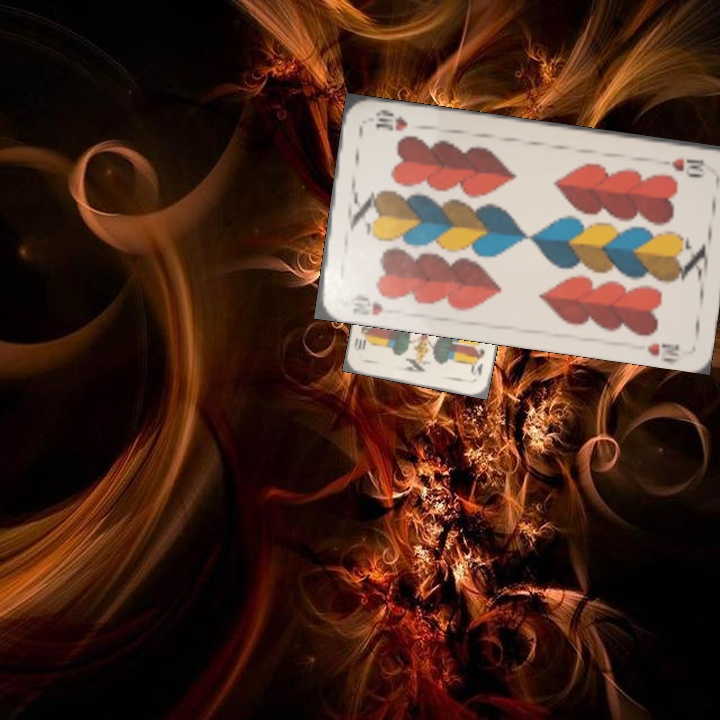E10: (467, 343, 487, 379)
H10: (346, 290, 385, 318), (668, 154, 707, 178)
